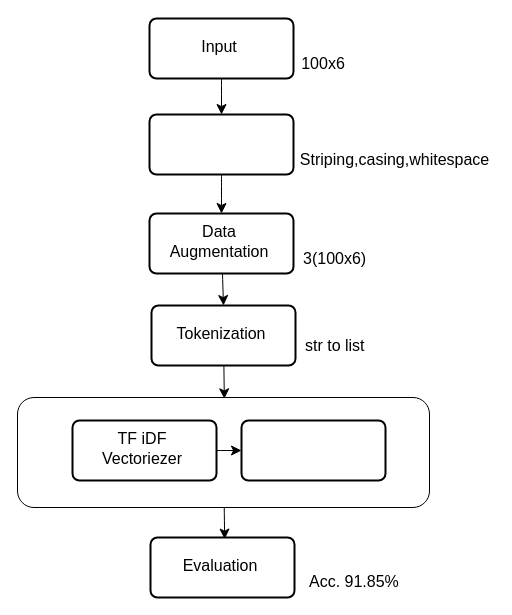
Some shapes in this 512 by 615 pixel diagram are drawn without their labels. The centre of each missing label's shape, as x and y in pixels:
Multinomial Naive Bayes: the point at 313,450
Preprocessing: the point at 221,144
